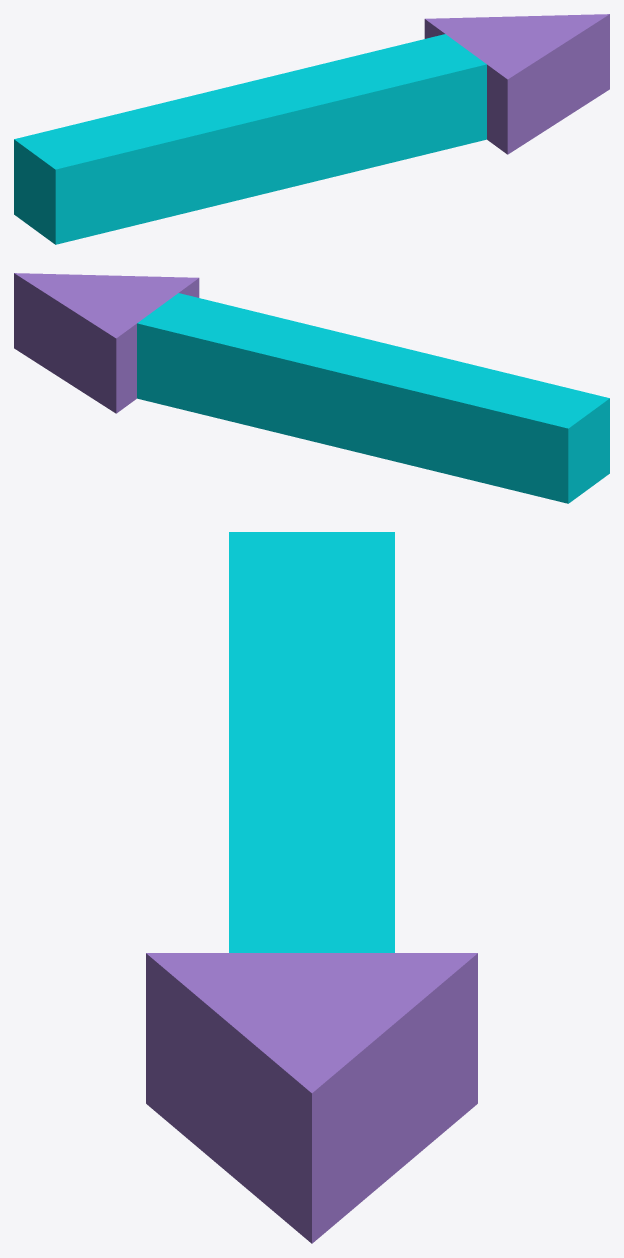
File: Arrow.fbx
The picture shows the model from 3 angles, top to bottom: view 1: azimuth 30°, elevation 25°; view 2: azimuth 150°, elevation 25°; view 3: azimuth 270°, elevation 25°; orthographic projection. The views are drawn at different scales.
Parts seen in each view (by area): view 1: mesh1772553426, mesh1696024066; view 2: mesh1772553426, mesh1696024066; view 3: mesh1696024066, mesh1772553426.
Part boxes in pixels (x1=…): mesh1772553426: x1=14, y1=34, x2=486, y2=244; mesh1696024066: x1=424, y1=14, x2=609, y2=154; mesh1772553426: x1=137, y1=293, x2=609, y2=503; mesh1696024066: x1=14, y1=273, x2=199, y2=413; mesh1696024066: x1=146, y1=953, x2=477, y2=1243; mesh1772553426: x1=229, y1=532, x2=394, y2=952.
Size of the model in its own units: 16 by 2 by 4.
